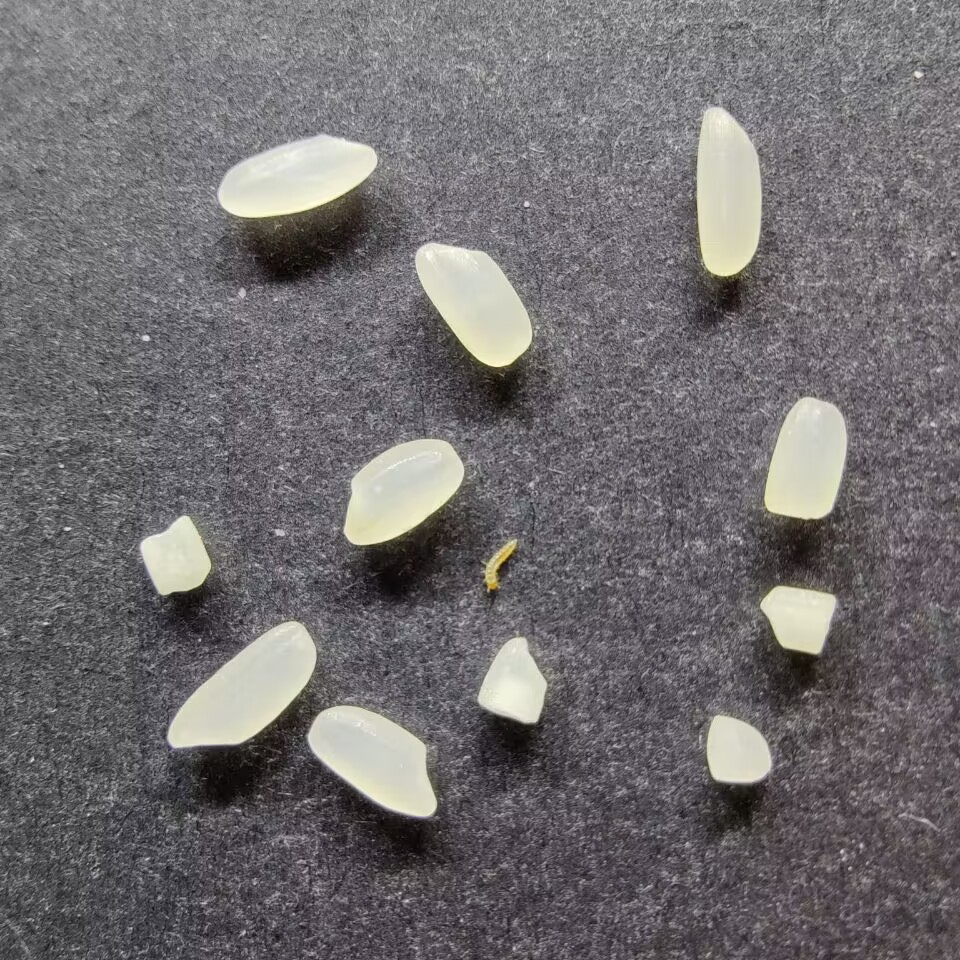broken: (475, 636, 549, 726), (136, 513, 214, 597), (757, 584, 839, 656), (703, 714, 776, 786)
others: (480, 534, 521, 593)
rice: (164, 619, 318, 750), (305, 703, 438, 820), (414, 240, 533, 370), (215, 131, 378, 219), (341, 436, 466, 547), (693, 105, 765, 278), (763, 394, 848, 520)
